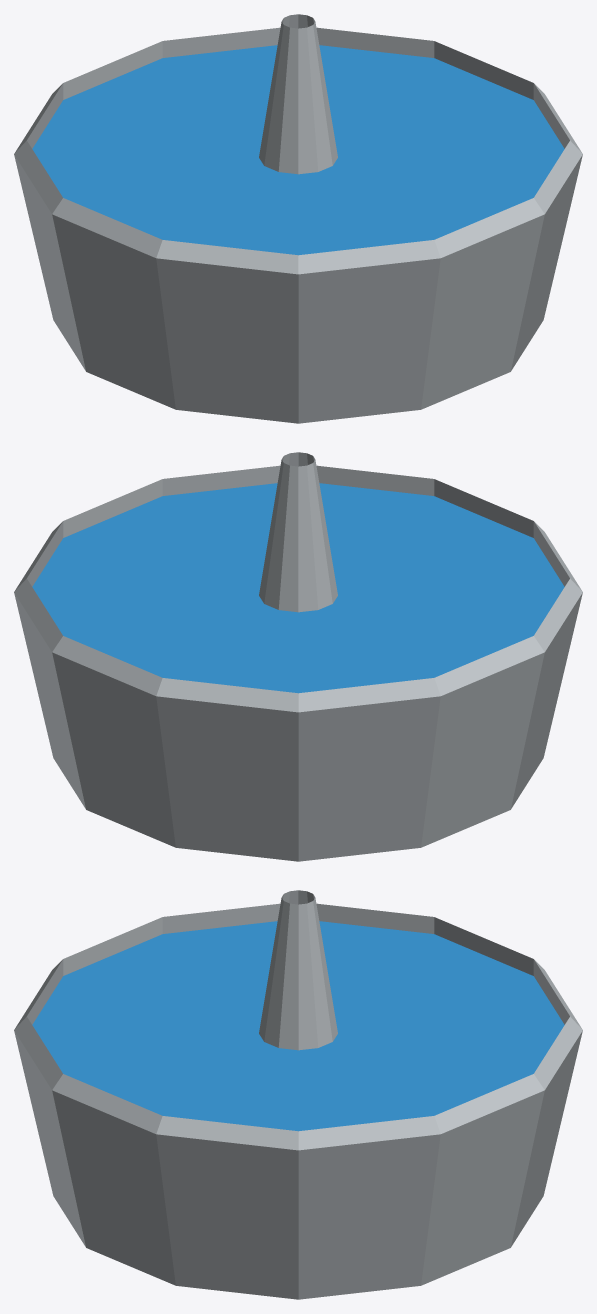
File: fountain.glb
3 renders of one model, top to bottom at view 1: azimuth 30°, elevation 25°; view 2: azimuth 150°, elevation 25°; view 3: azimuth 270°, elevation 25°, orthographic.
Parts seen in each view (by area): view 1: fountain; view 2: fountain; view 3: fountain.
Part boxes in pixels (box(x1,y1,x2,y2)): fountain: box(14, 14, 582, 423); fountain: box(14, 452, 582, 861); fountain: box(14, 890, 582, 1299).
Size of the model in its own units: 2.32 by 1.34 by 2.32.
2 materials, 2 textured.
